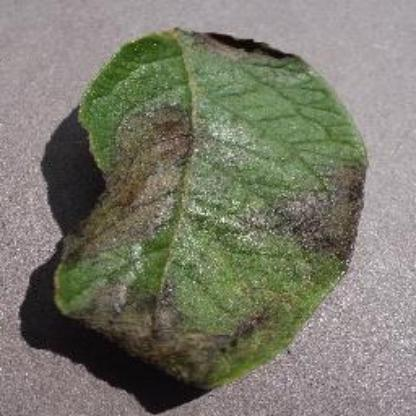Late-Blight: (7, 13, 404, 403)
